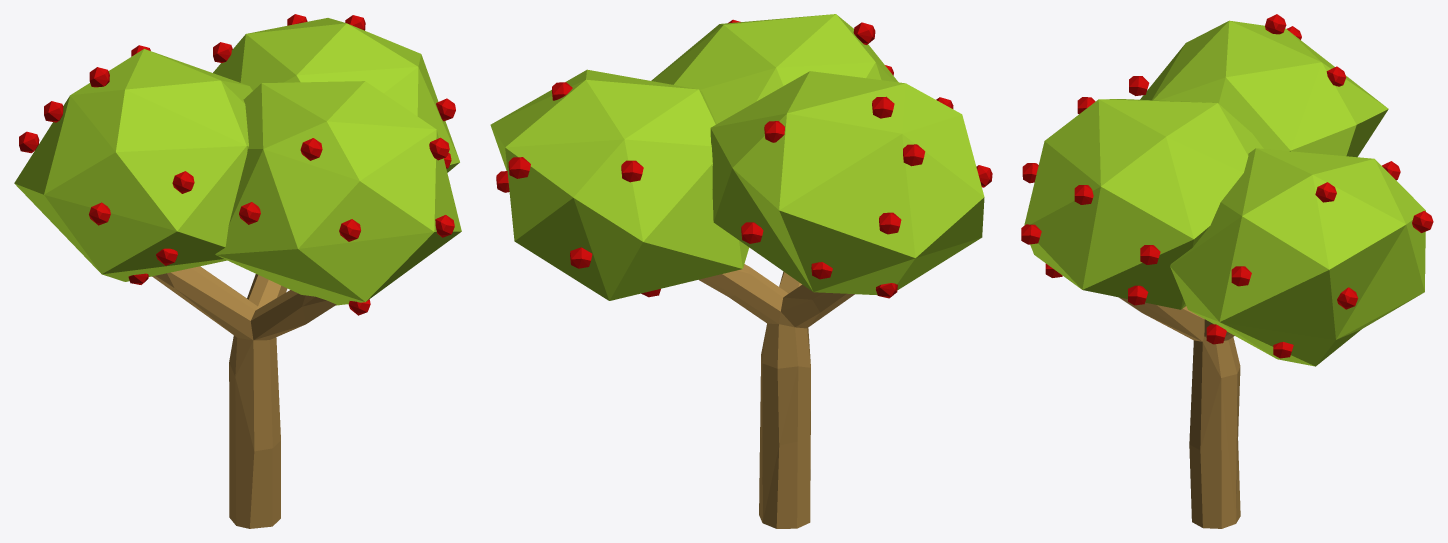
File: AppleTree02.fbx
The picture shows the model from 3 angles, left to right: view 1: azimuth 30°, elevation 25°; view 2: azimuth 150°, elevation 25°; view 3: azimuth 270°, elevation 25°; orthographic projection. The views are drawn at different scales.
Parts seen in each view (by area): view 1: AppleTree02; view 2: AppleTree02; view 3: AppleTree02.
Part boxes in pixels (x1=…): AppleTree02: x1=14, y1=14, x2=461, y2=528; AppleTree02: x1=490, y1=14, x2=992, y2=528; AppleTree02: x1=1021, y1=14, x2=1433, y2=528.
Bounding box in the file's own units: 3.74 × 3.86 × 3.23.
